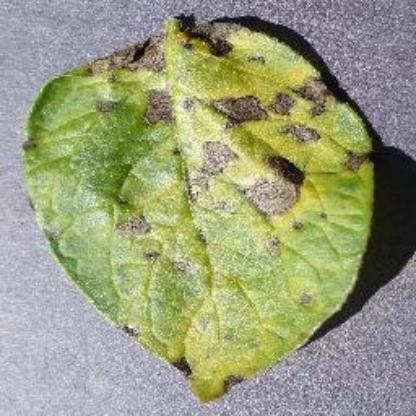Early-Blight: (23, 16, 372, 402)
